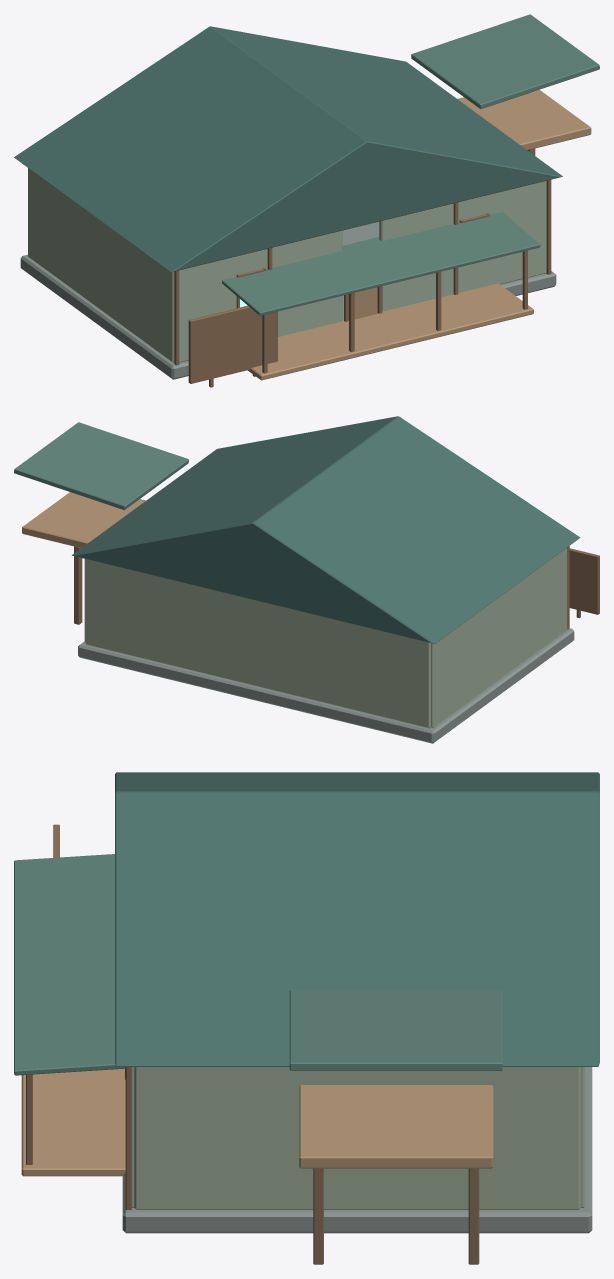
The model's file is LumenMossglenRangerHall.glb.
3 views of the same model, one above another, from view 1: azimuth 30°, elevation 25°; view 2: azimuth 150°, elevation 25°; view 3: azimuth 270°, elevation 25° (orthographic). The views are drawn at different scales.
Parts seen in each view (by area): view 1: LumenMossglenRangerHall; view 2: LumenMossglenRangerHall; view 3: LumenMossglenRangerHall.
Part boxes in pixels (left/top/right/bottom): LumenMossglenRangerHall: left=14, top=14, right=599, bottom=387; LumenMossglenRangerHall: left=14, top=416, right=599, bottom=743; LumenMossglenRangerHall: left=14, top=772, right=599, bottom=1264.
Bounding box in the file's own units: 44.49 × 16.97 × 30.2.
